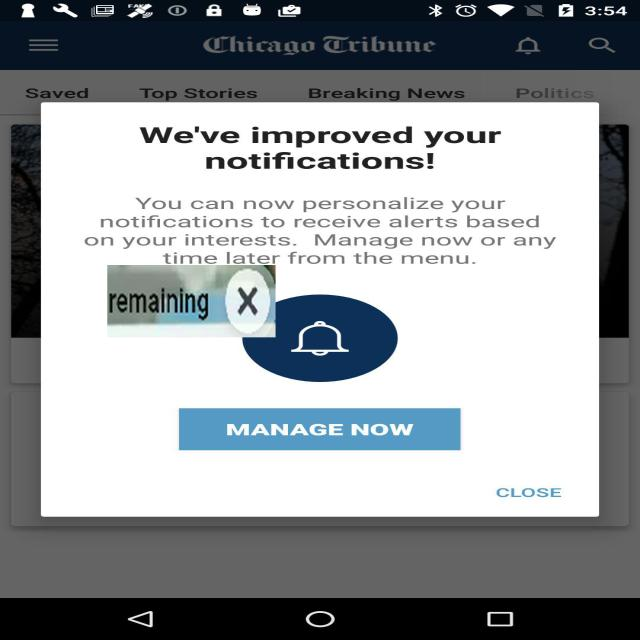misdirection: (107, 265, 276, 337)
